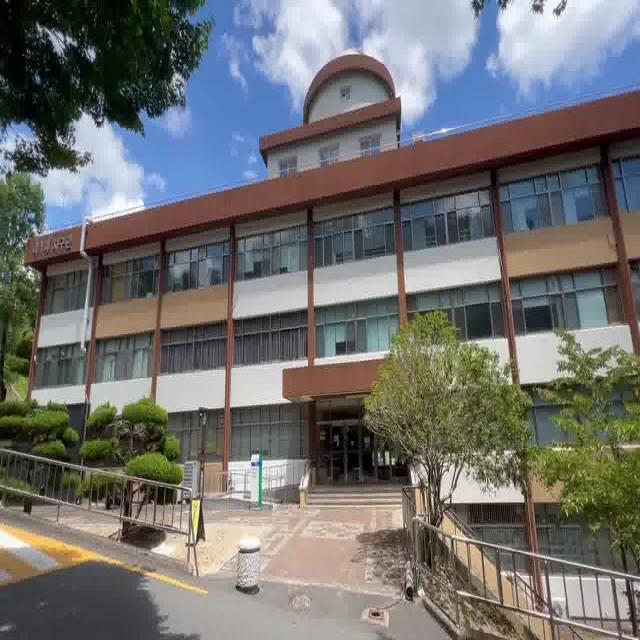building: (86, 118, 640, 388)
